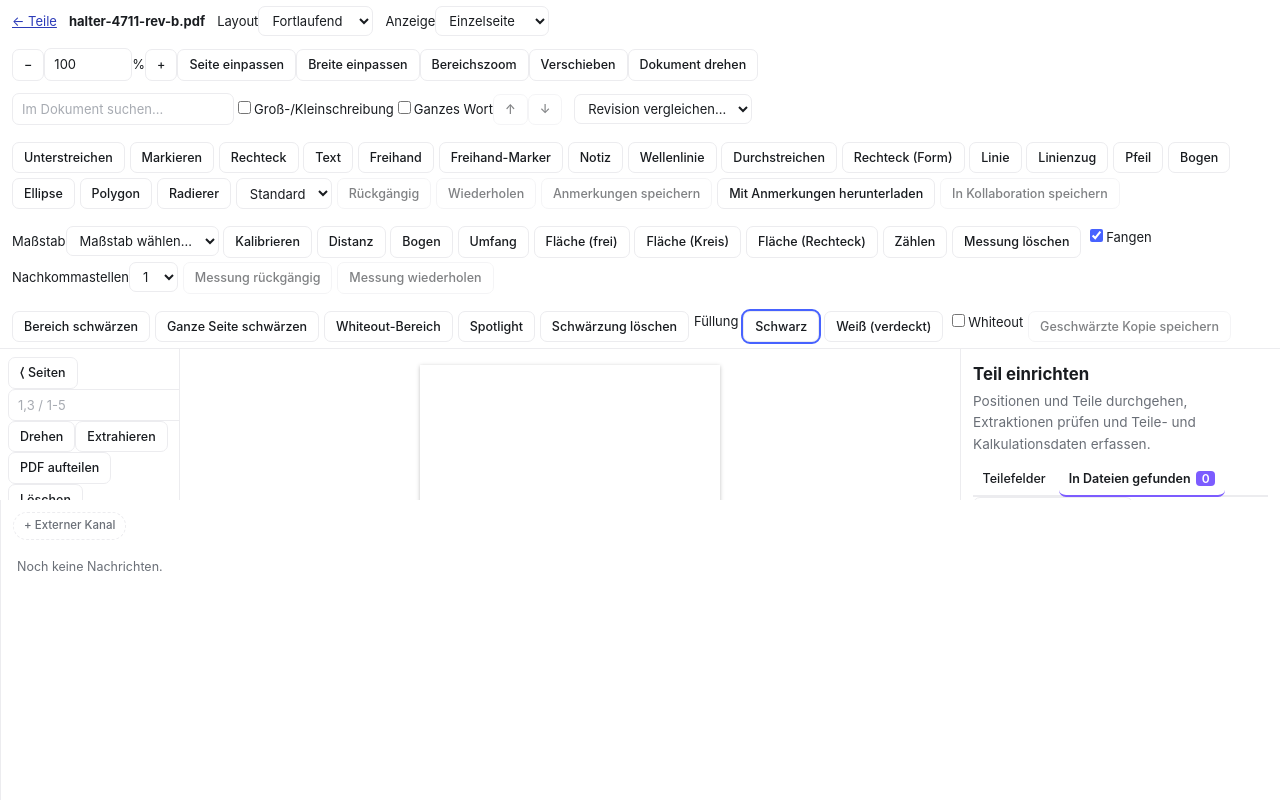
Test: PdfViewerPage › loads the document, searches with toggles, and reports hit counts
Check: the text "halter-4711-rev-b.pdf" is shown, box [69, 11, 205, 31]
In the field labelled "Im Dokument suchen…": (123, 109) [12, 93, 234, 125], type "iso"
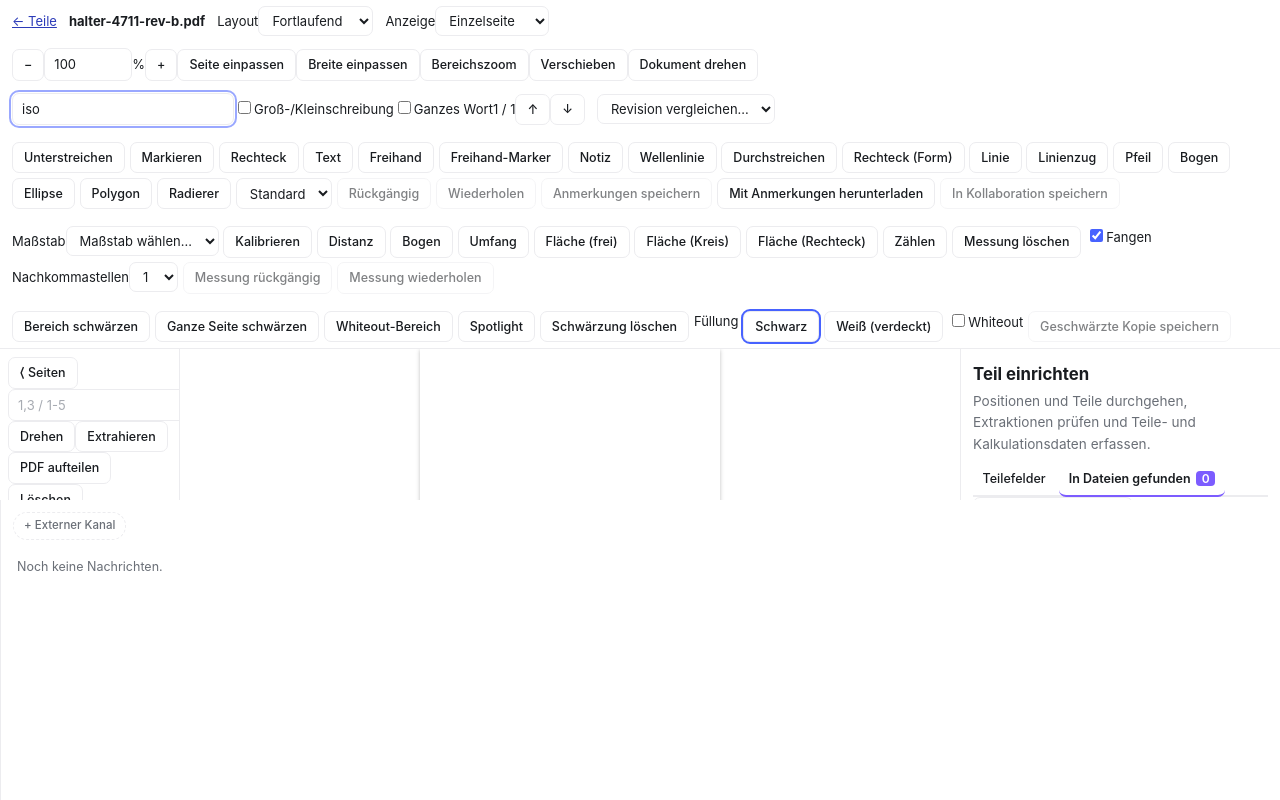
Check: the text "1 / 1" is shown, box [493, 101, 516, 117]
Click the checkbox labelled "Groß-/Kleinschreibung": (244, 107) [238, 101, 251, 114]
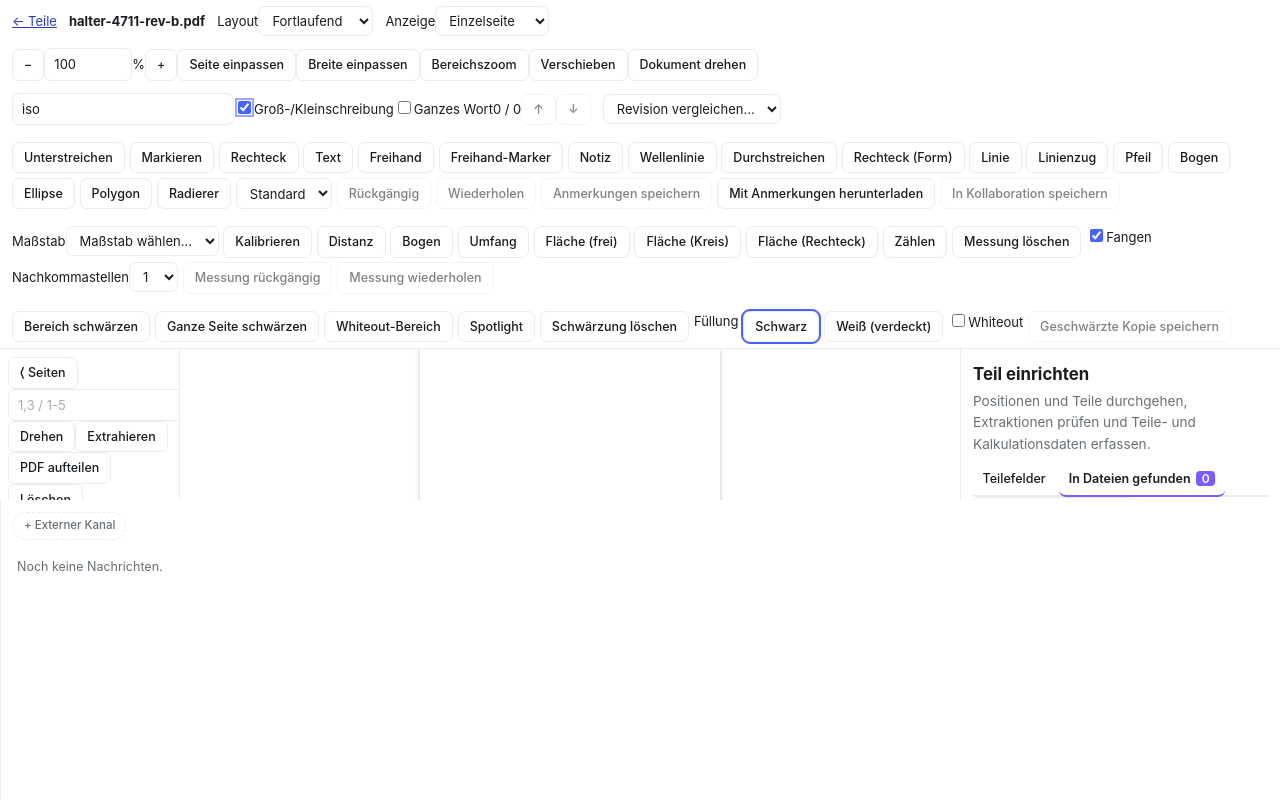
Check: the text "0 / 0" is shown, box [493, 101, 521, 117]
